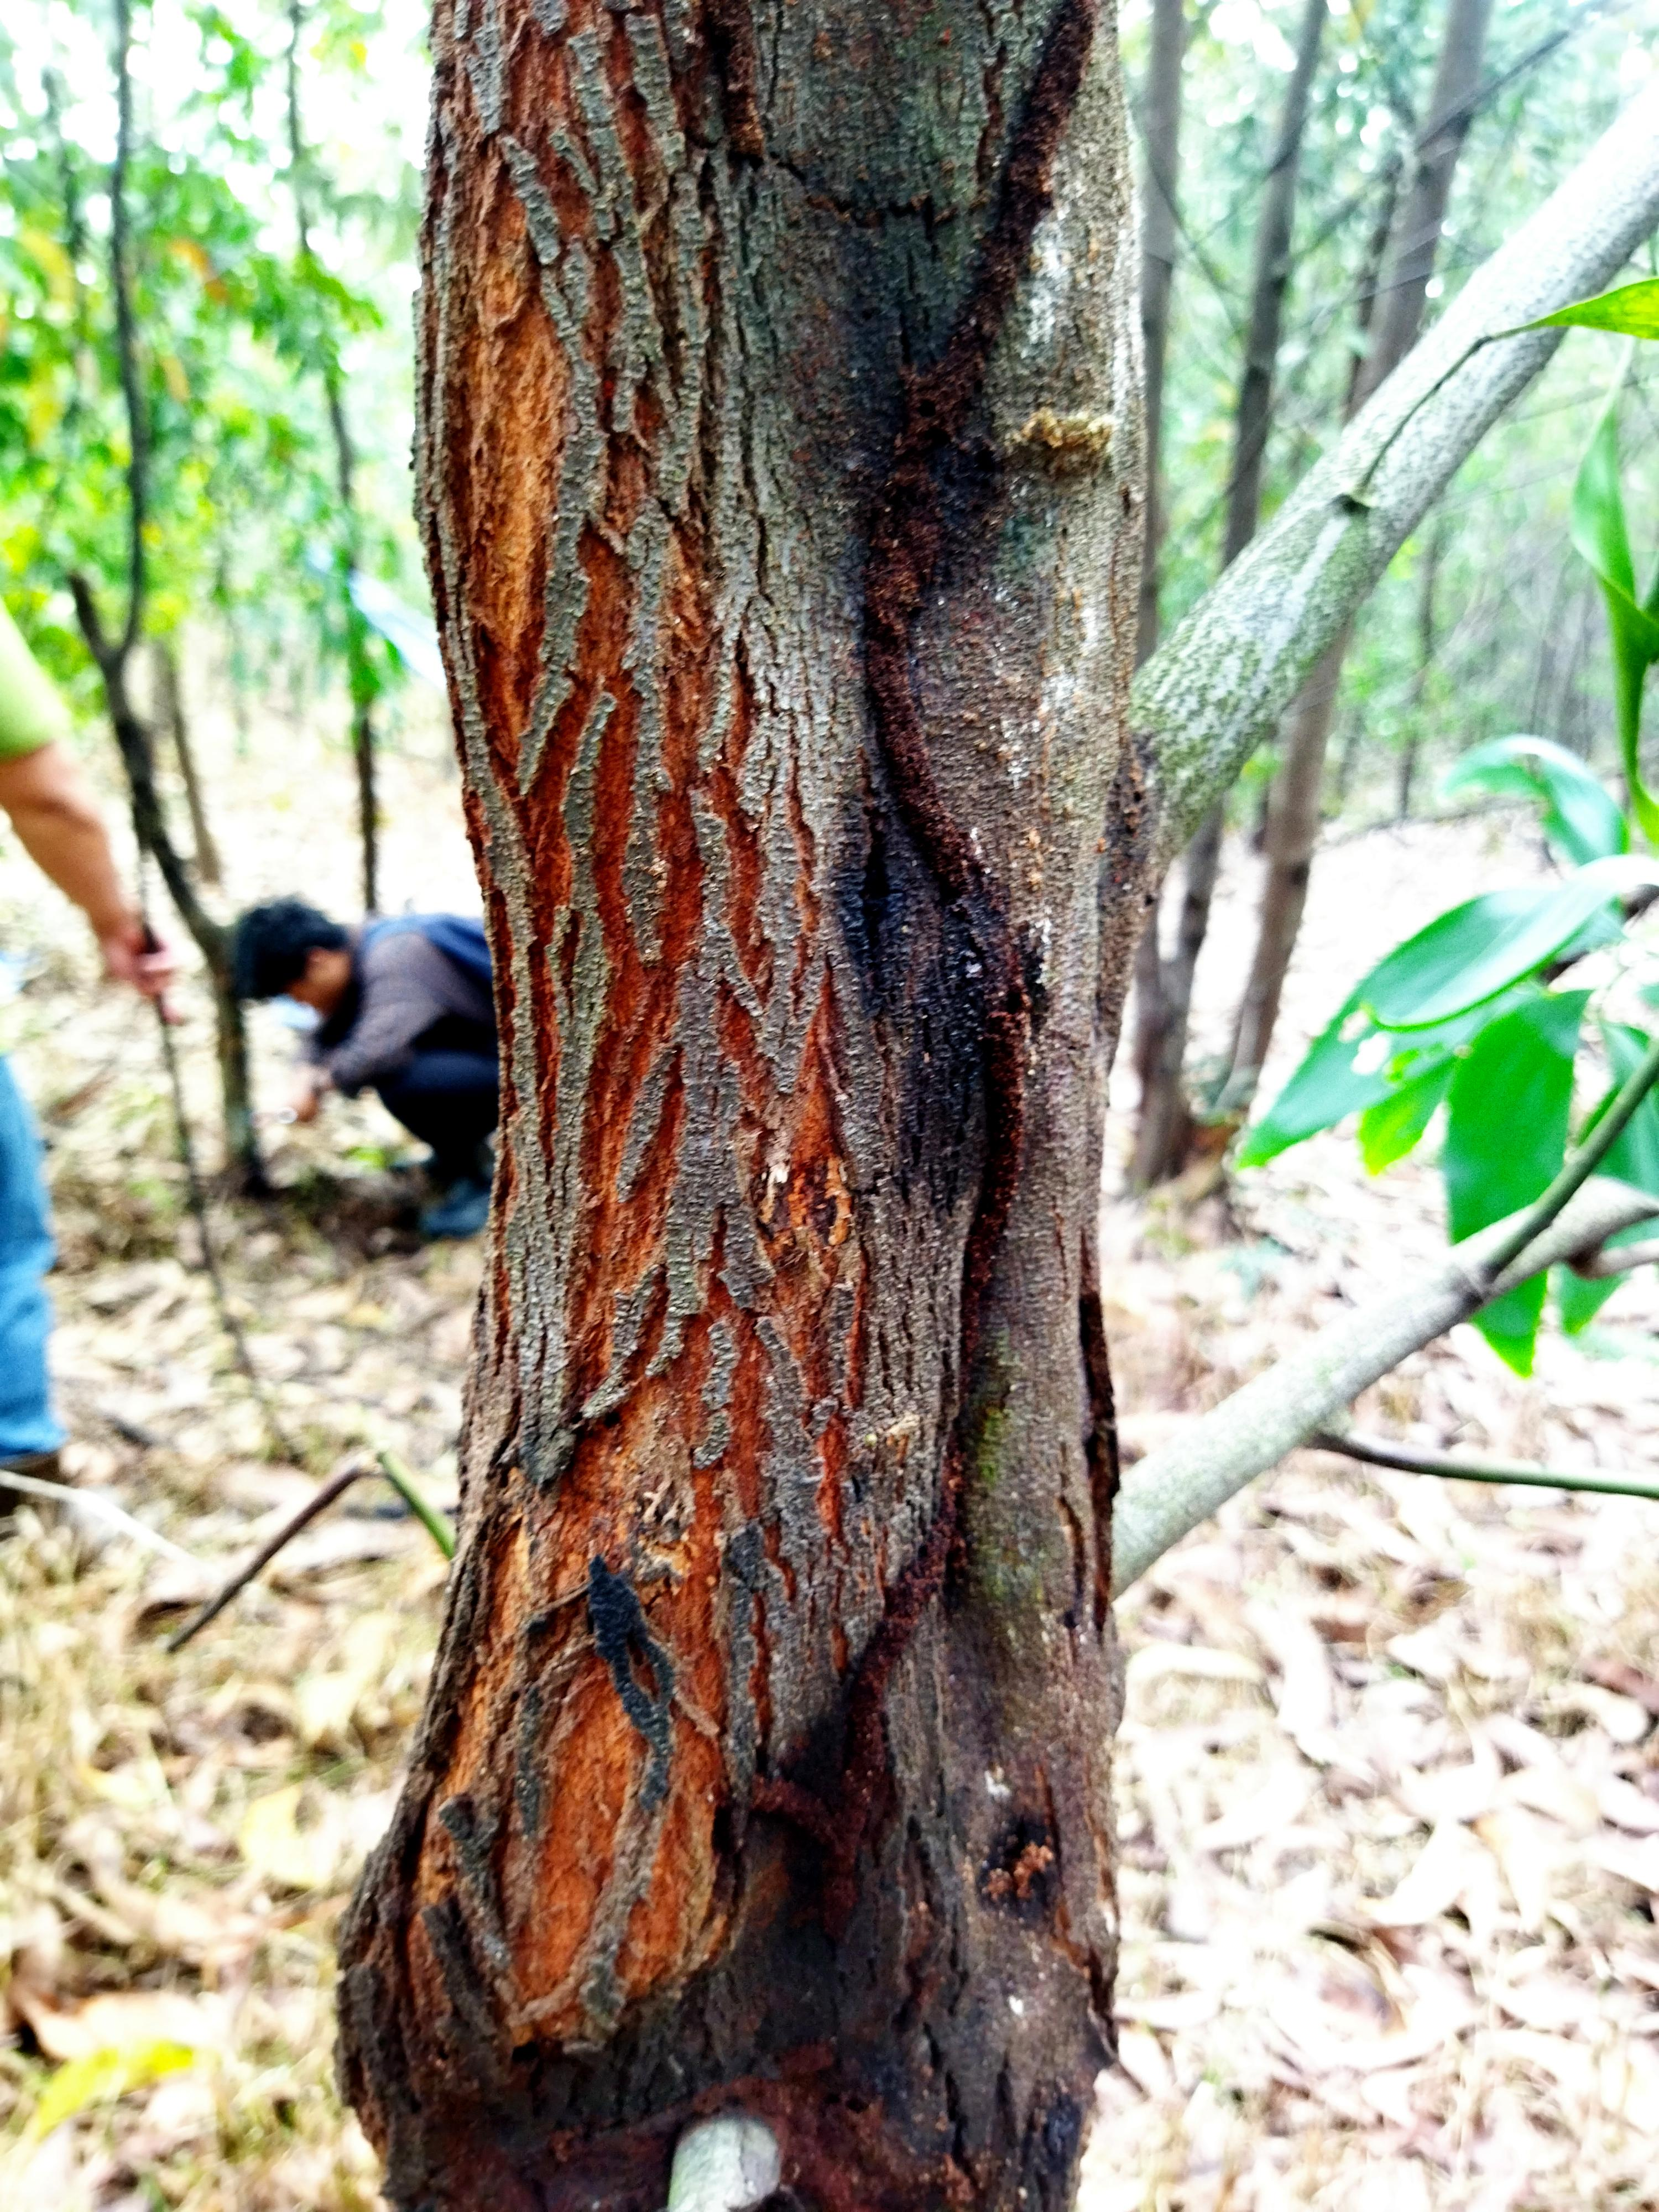Stem Deformation: (383, 157, 913, 2102)
